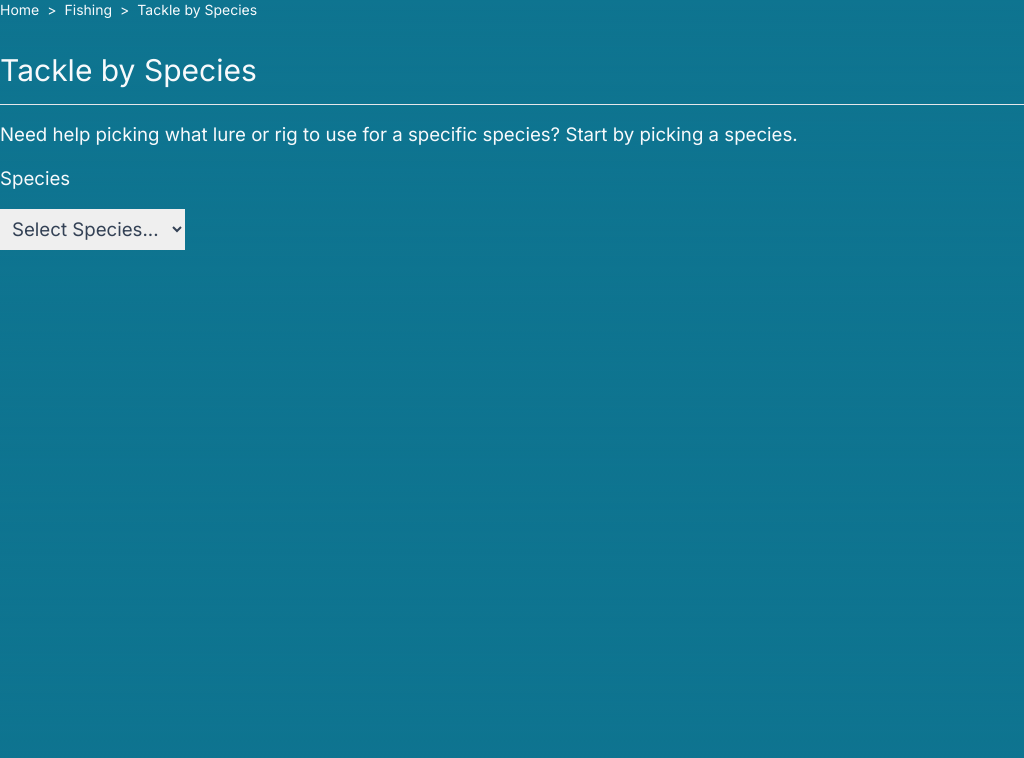
it: TackleBySpecies › opens tip modals when clicked
Select "largemouth bass" in the dropdown at (92, 230), box [0, 209, 185, 250]
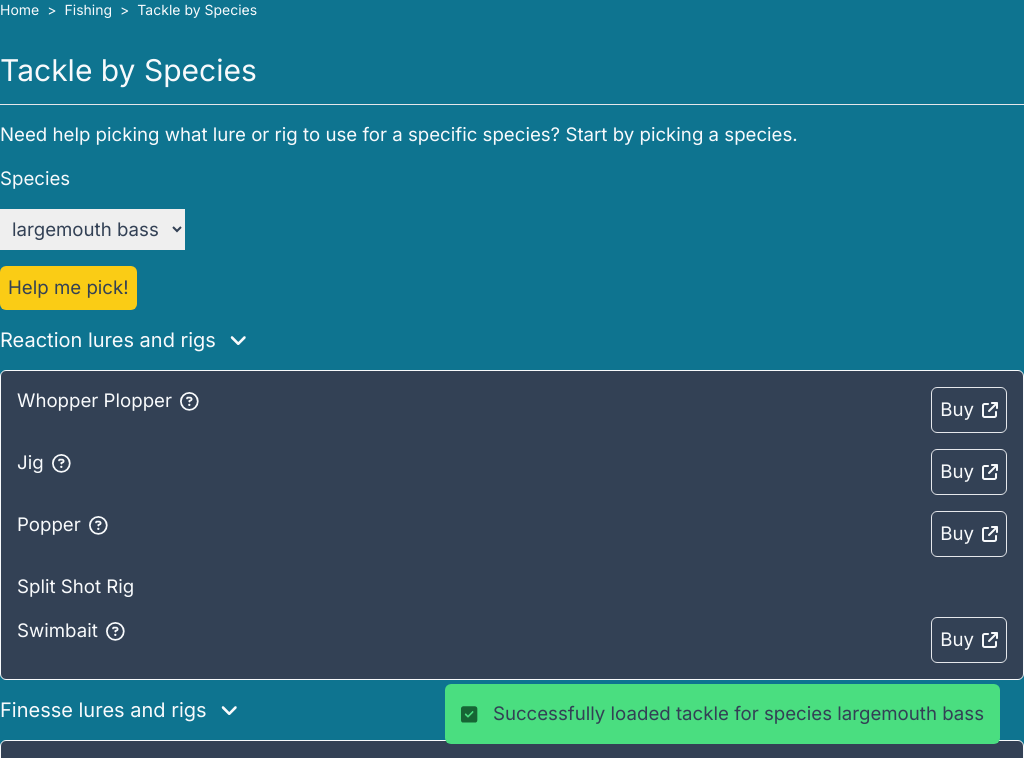
Expected: the text "lures and rigs" is shown, [0, 328, 216, 352]
Click the button titled "Click to learn how to use this" at (108, 401), box [17, 387, 199, 415]
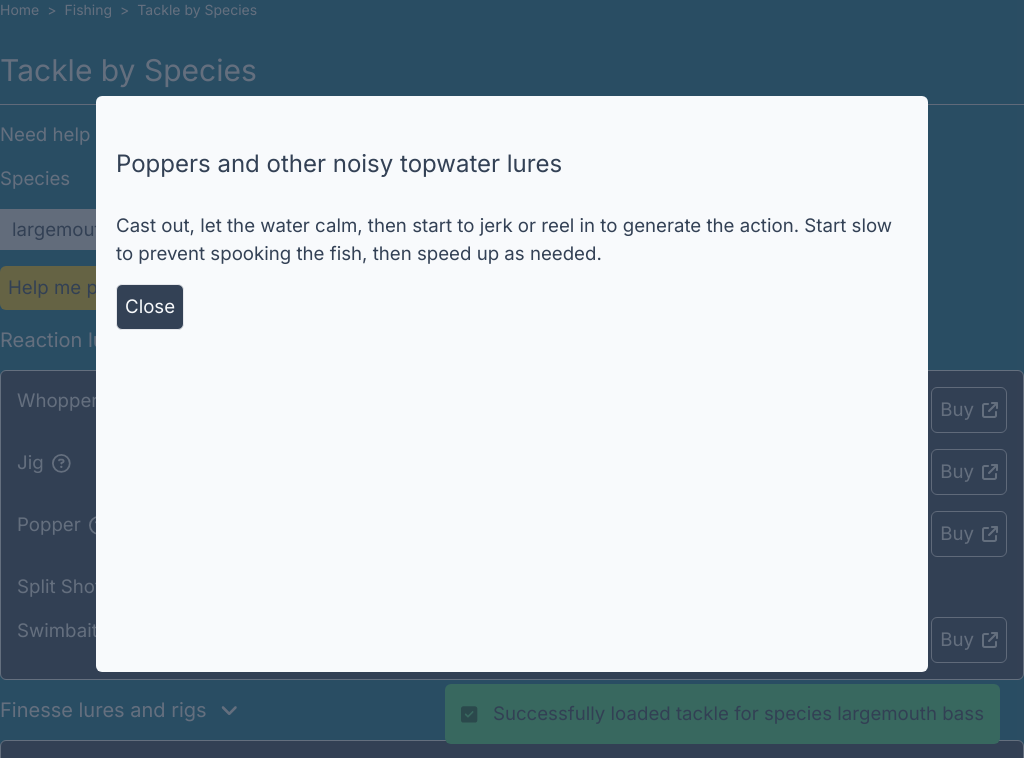
Expected: the dialog named "Tackle Modal" is shown
